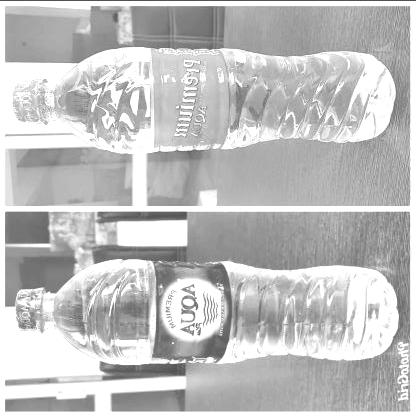bottle: (10, 245, 405, 371), (18, 38, 394, 159)
